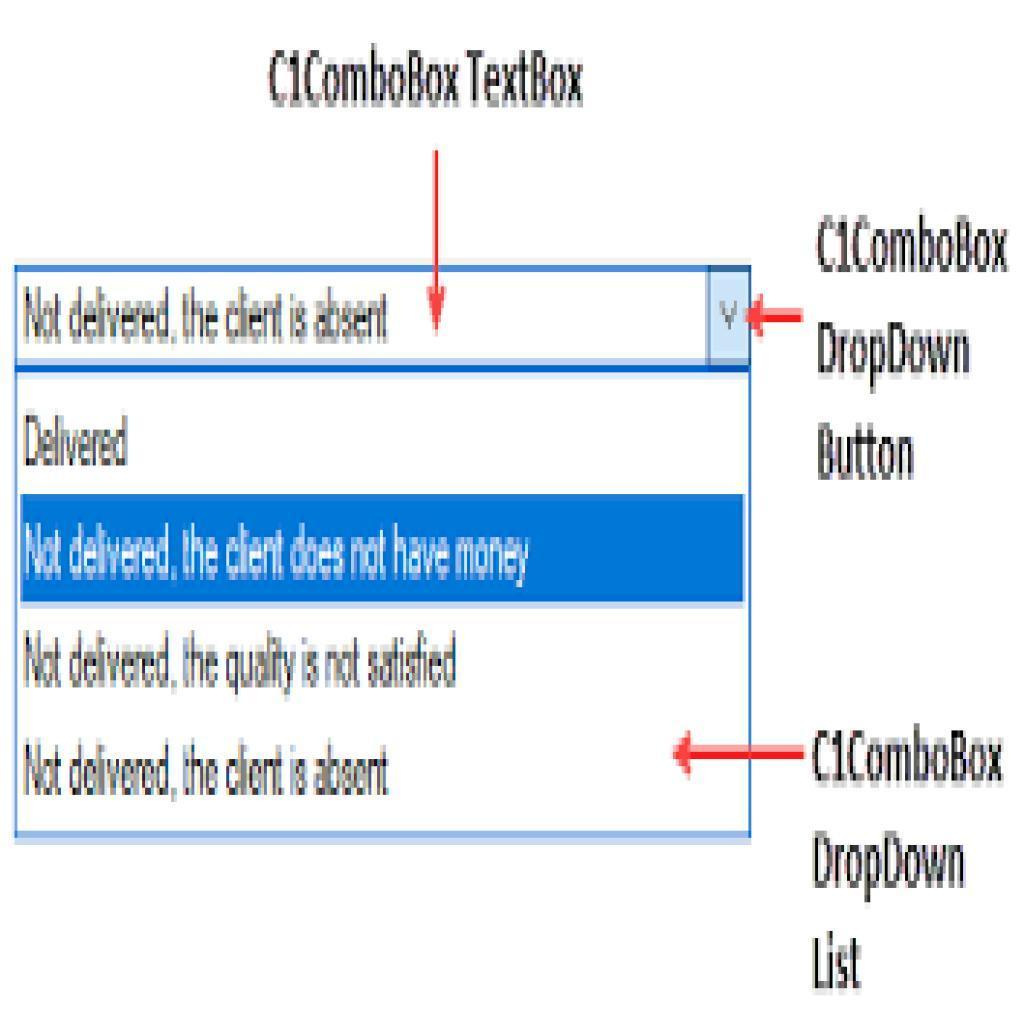dropdown: (14, 265, 753, 370)
